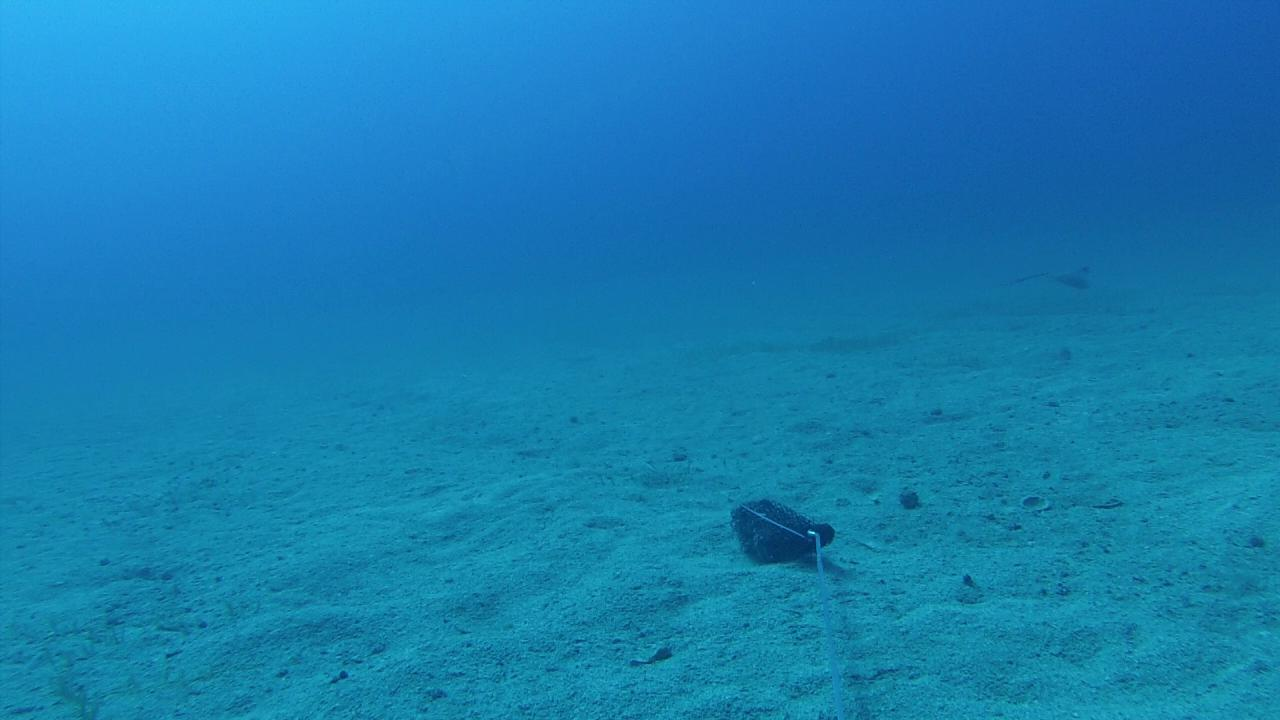dasyatis: (1005, 263, 1094, 291)
